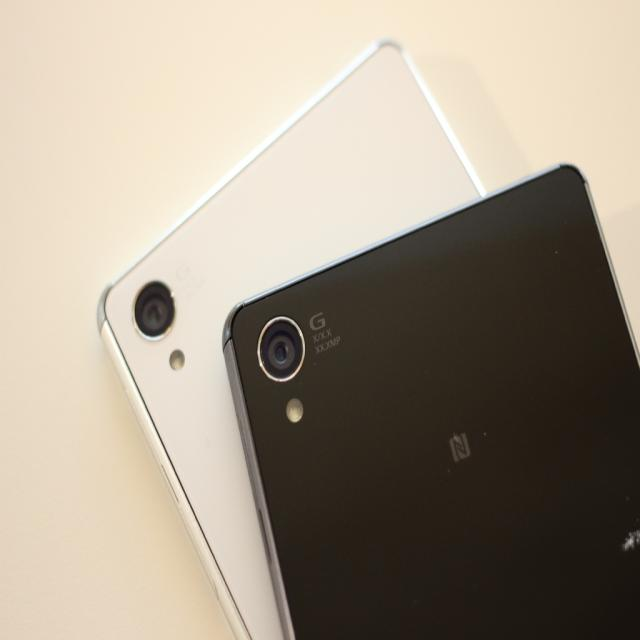Mobile-phone: (95, 39, 488, 639), (222, 160, 640, 639)
